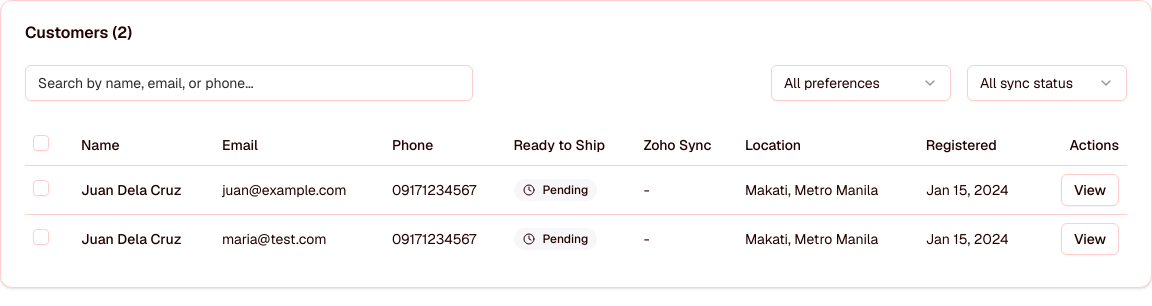
Test: CustomerList Component › Search Functionality › should filter customers by email
The image size is (1152, 306).
Type "test.com" into the field with placeholder "Search by name, email, or phone...". click: (249, 83)
box: [25, 65, 473, 101]
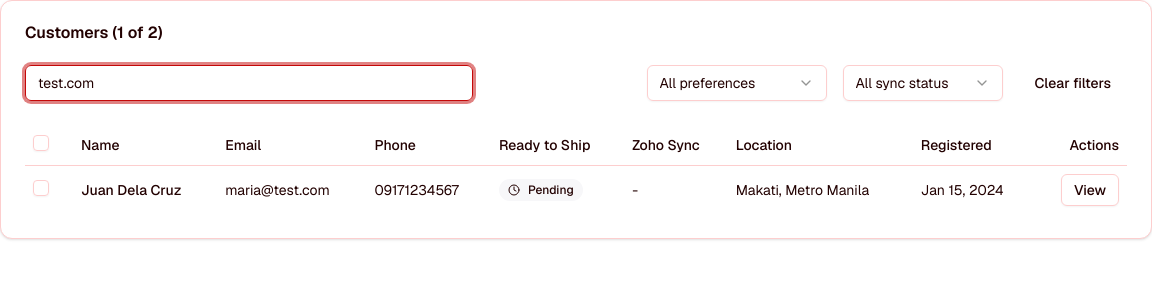
Check: the text "juan@example.com" is gone
